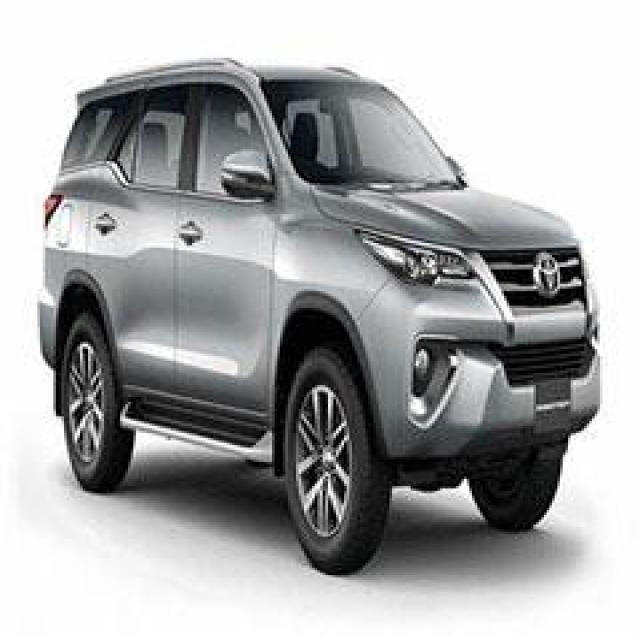car: (24, 43, 621, 613)
